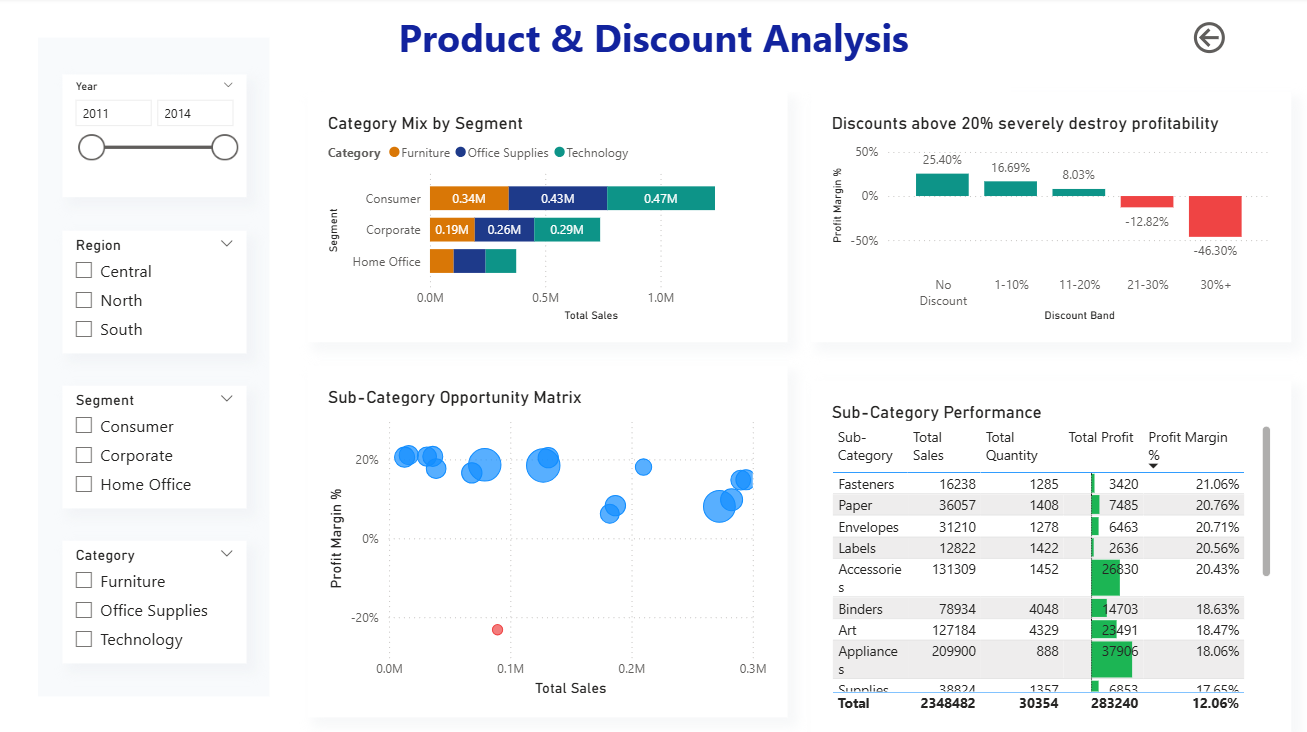

This screenshot's page, from the dashboard's own definition file:
{"tool":"powerbi","page":{"name":"Product & Discount Analysis","canvas":[1280,720],"ordinal":2},"visuals":[{"type":"scatterChart","title":"Sub-Category Opportunity Matrix","fields":{"X":["Fact_Orders.Total Sales"],"Y":["Fact_Orders.Profit_Margin %"],"Size":["Fact_Orders.Total Quantity"],"Category":["Fact_Orders.Sub-Category"]},"box":[300.8,360.7,469.6,343.6],"z":0},{"type":"barChart","title":"Category Mix by Segment","fields":{"Category":["Fact_Orders.Segment"],"Series":["Fact_Orders.Category"],"Y":["Fact_Orders.Total Sales"]},"box":[300.8,92.9,469.6,244.6],"z":1000},{"type":"clusteredColumnChart","title":"Discounts above 20% severely destroy profitability","fields":{"Category":["Fact_Orders.Discount Band"],"Y":["Fact_Orders.Profit_Margin %"]},"box":[793.6,92.9,469.6,244.6],"z":2000},{"type":"tableEx","title":"Sub-Category Performance","fields":{"Values":["Fact_Orders.Sub-Category","Fact_Orders.Total Sales","Fact_Orders.Total Quantity","Fact_Orders.Total Profit","Fact_Orders.Profit_Margin %"]},"box":[793.6,375.4,469.6,344.8],"z":3000},{"type":"shape","box":[17.1,19.6,266.6,684.8],"z":4000},{"type":"textbox","box":[289.8,8.6,699.5,84.4],"z":5000},{"type":"slicer","fields":{"Values":["Fact_Orders.Year"]},"box":[61.1,75.8,179.8,119.8],"z":6000},{"type":"slicer","fields":{"Values":["Fact_Orders.Region"]},"box":[61.1,228.7,179.8,119.8],"z":7000},{"type":"slicer","fields":{"Values":["Fact_Orders.Segment"]},"box":[61.1,380.3,179.8,119.8],"z":8000},{"type":"slicer","fields":{"Values":["Fact_Orders.Category"]},"box":[61.1,531.9,179.8,119.8],"z":9000},{"type":"actionButton","box":[1162.9,19.6,100.3,40.4],"z":10000}]}

Visuals, with their boxes in screenshot pixels (x1, y1, x2, y2), scaled from the page's 1280x720 canvas onto the 1307x732 screenshot:
"Sub-Category Opportunity Matrix" scatterChart: <bbox>307, 367, 787, 716</bbox>
"Category Mix by Segment" barChart: <bbox>307, 94, 787, 343</bbox>
"Discounts above 20% severely destroy profitability" clusteredColumnChart: <bbox>810, 94, 1290, 343</bbox>
"Sub-Category Performance" tableEx: <bbox>810, 382, 1290, 731</bbox>
shape: <bbox>17, 20, 290, 716</bbox>
textbox: <bbox>296, 9, 1010, 95</bbox>
slicer - Fact_Orders.Year: <bbox>62, 77, 246, 199</bbox>
slicer - Fact_Orders.Region: <bbox>62, 233, 246, 354</bbox>
slicer - Fact_Orders.Segment: <bbox>62, 387, 246, 508</bbox>
slicer - Fact_Orders.Category: <bbox>62, 541, 246, 663</bbox>
actionButton: <bbox>1187, 20, 1290, 61</bbox>
